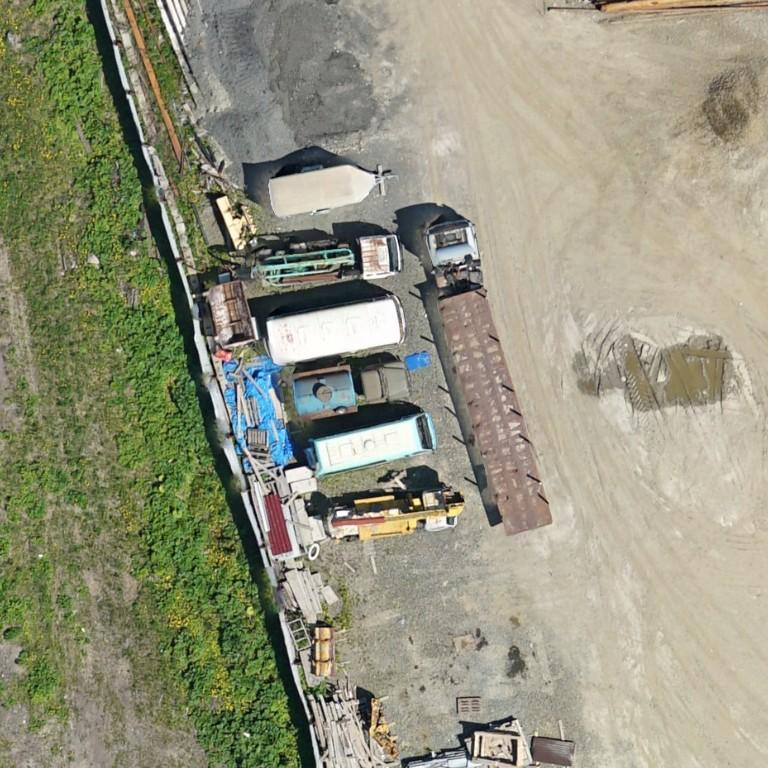hogweed: (141, 376, 298, 767), (109, 306, 190, 440), (38, 17, 111, 148), (74, 157, 113, 265), (172, 627, 214, 701), (114, 142, 145, 230)
